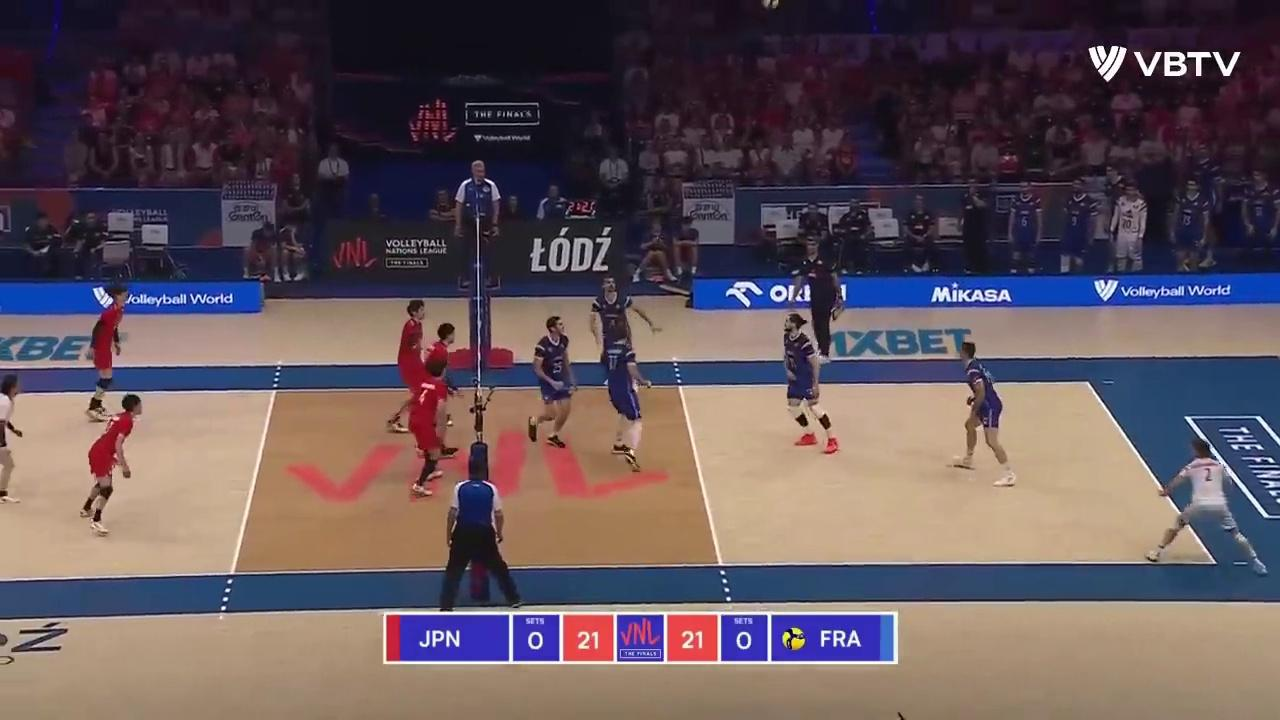ball: (766, 0, 778, 8)
